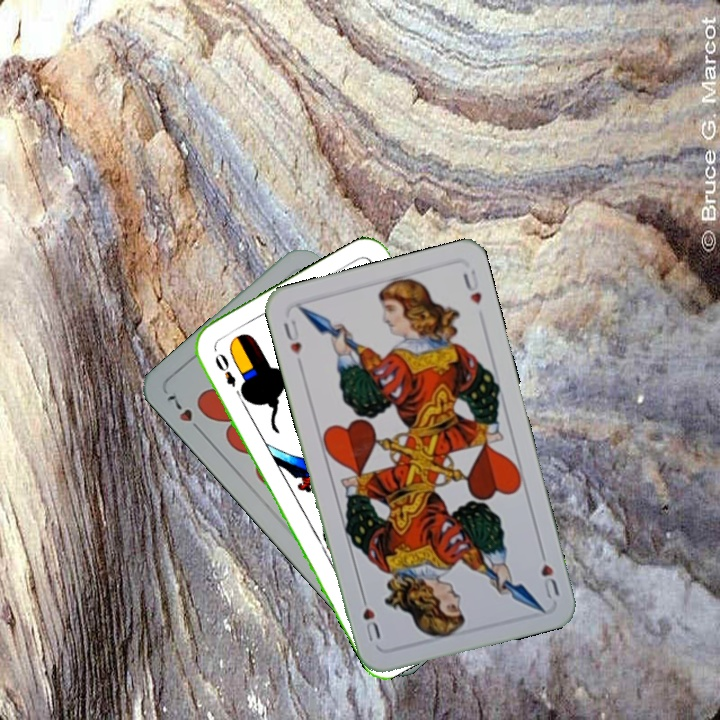EO: (210, 349, 246, 401)
H7: (162, 390, 207, 438)
HU: (536, 544, 562, 601), (279, 315, 305, 369)
